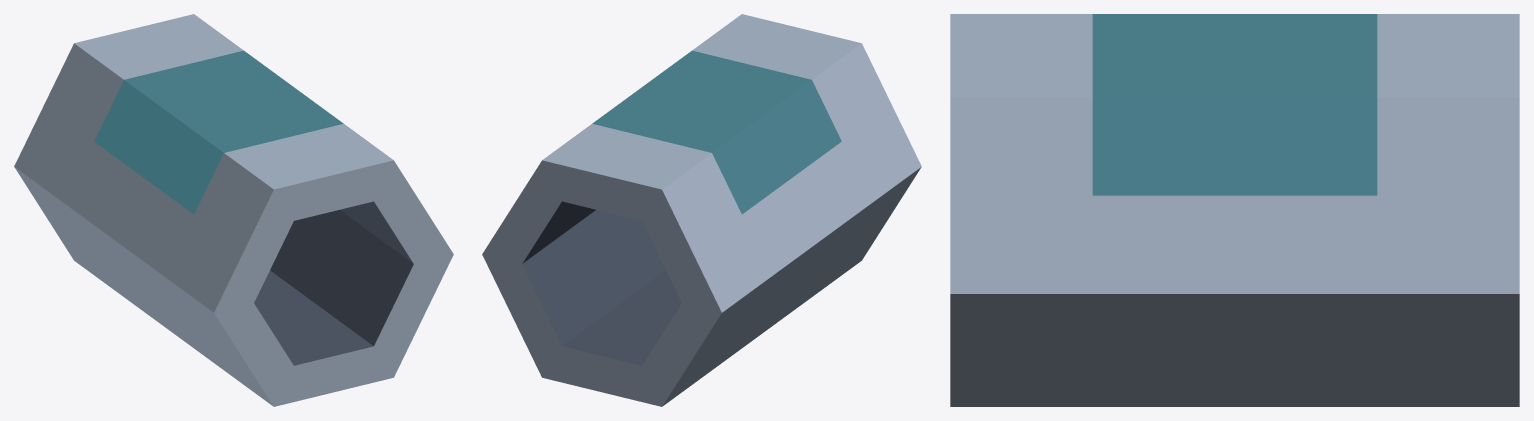
The model's file is pipe_straight.glb.
3 views of the same model, side by side, from view 1: azimuth 30°, elevation 25°; view 2: azimuth 150°, elevation 25°; view 3: azimuth 270°, elevation 25° (orthographic). The views are drawn at different scales.
Parts seen in each view (by area): view 1: pipe_straight; view 2: pipe_straight; view 3: pipe_straight.
Part boxes in pixels (box(x1,y1,x2,y2)): pipe_straight: box(14, 14, 453, 406); pipe_straight: box(482, 14, 921, 406); pipe_straight: box(950, 14, 1519, 406).
Size of the model in its own units: 0.6928 by 0.6 by 1.
